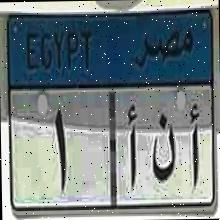1: (50, 106, 70, 192)
alif: (184, 100, 202, 192), (124, 99, 141, 190)
noon: (150, 108, 178, 182)
